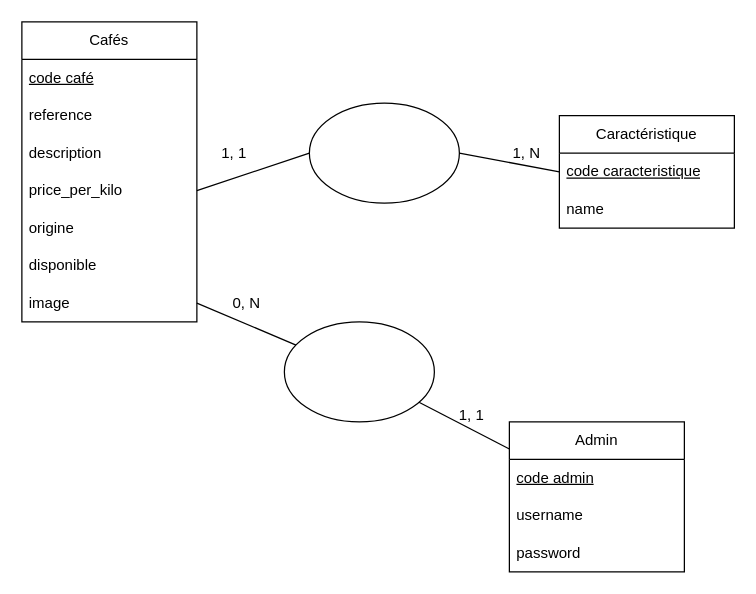
The diagram is 756 pixels wide and 594 high, and some of its shapes have lost their labels. The centre of each missing label's shape, as x and y in pixels:
"EST GERE PAR" goes at (358,371).
"POSSEDE" goes at (383,152).
